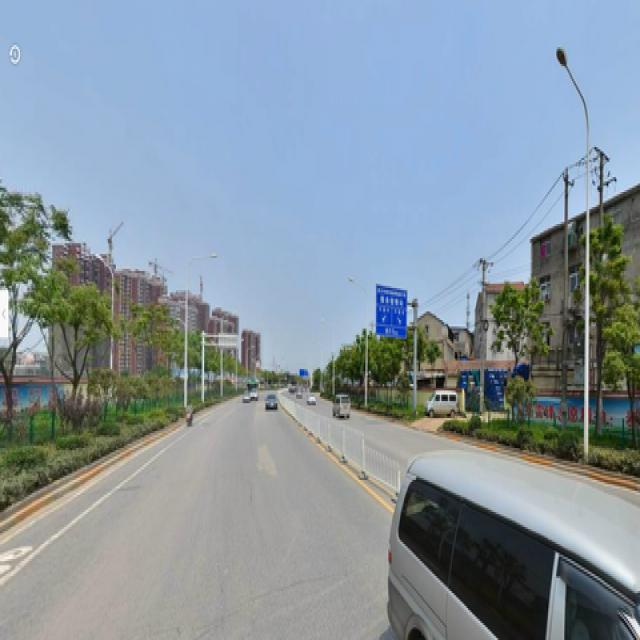koel: (14, 213, 42, 333), (602, 245, 626, 374), (517, 292, 543, 367)
